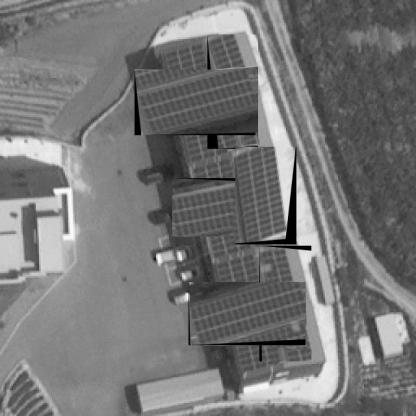solar-pv-panel: (137, 70, 255, 135), (189, 282, 306, 345), (260, 248, 311, 361), (208, 34, 258, 147), (172, 182, 269, 236), (235, 147, 289, 243)
